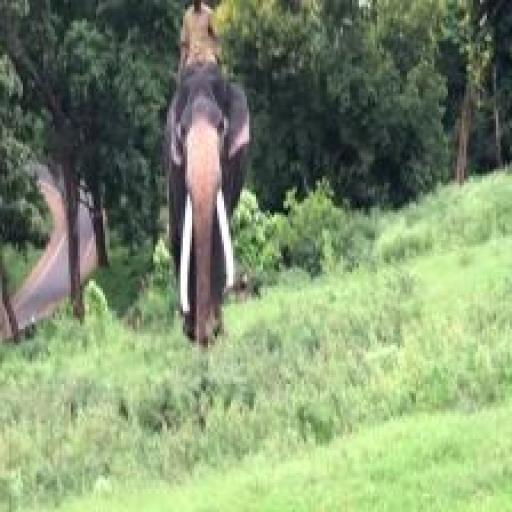Elephant: (156, 52, 252, 356)
